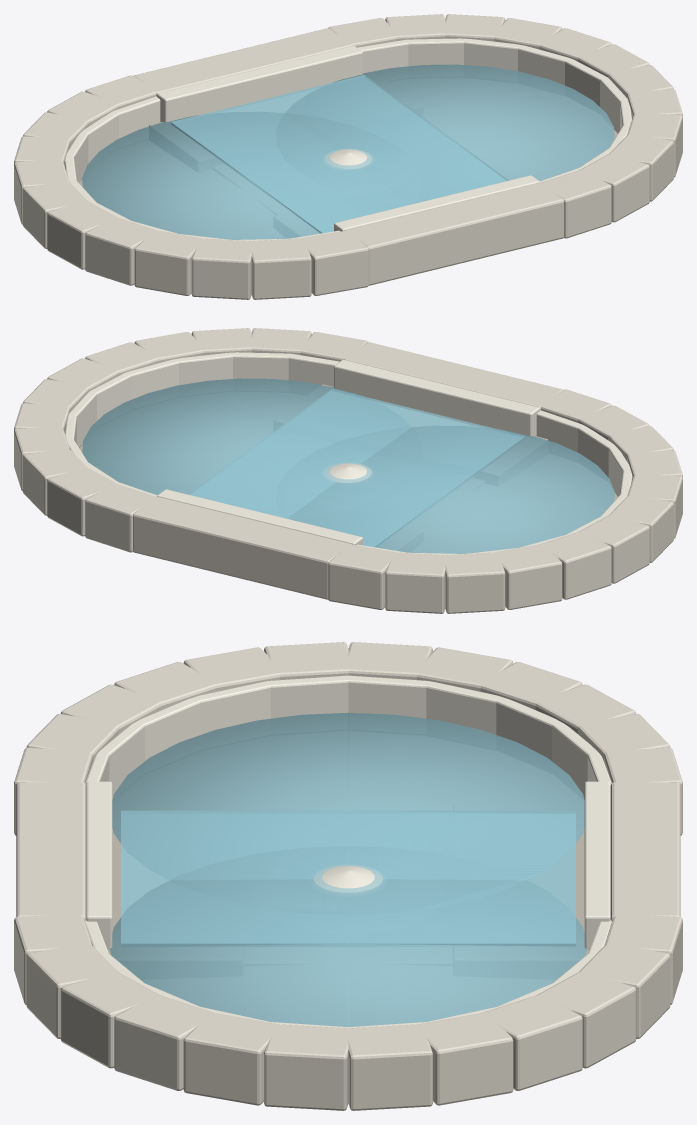
File: pool_roman.glb
3 renders of one model, top to bottom at view 1: azimuth 30°, elevation 25°; view 2: azimuth 150°, elevation 25°; view 3: azimuth 270°, elevation 25°, orthographic. The views are drawn at different scales.
Visible parts, largest first — view 1: Tint, Water, Pool wall, Pool wall.001, Rounded wall.001, Rounded wall.002, Rounded wall.003, Rounded wall, Rounded wall.019, Rounded wall.004, Rounded wall.018, Rounded wall.005 (+2 smaller); view 2: Tint, Water, Pool wall.001, Pool wall, Rounded wall.008, Rounded wall.007, Rounded wall.006, Rounded wall.009, Rounded wall.010, Rounded wall.005, Rounded wall.011, Rounded wall.004 (+2 smaller); view 3: Water, Tint, Pool wall, Pool wall.001, Rounded wall.014, Rounded wall.015, Rounded wall.016, Rounded wall.013, Rounded wall.012, Rounded wall.017, Rounded wall.011, Rounded wall.018 (+3 smaller).
Part boxes in pixels (box(x1,y1,x2,y2)): Tint: box(14, 14, 682, 299); Water: box(82, 64, 614, 239); Pool wall: box(157, 45, 362, 122); Pool wall.001: box(334, 175, 539, 231); Rounded wall.001: box(406, 38, 464, 66); Rounded wall.002: box(464, 38, 520, 71); Rounded wall.003: box(518, 45, 569, 85); Rounded wall: box(357, 39, 408, 72); Rounded wall.019: box(113, 96, 160, 138); Rounded wall.004: box(565, 58, 607, 106); Rounded wall.018: box(81, 111, 118, 163); Rounded wall.005: box(600, 77, 627, 133); Tint: box(14, 328, 682, 613); Water: box(82, 378, 614, 553); Pool wall.001: box(334, 359, 539, 436); Pool wall: box(157, 489, 362, 545); Rounded wall.008: box(232, 352, 290, 380); Rounded wall.007: box(176, 352, 233, 385); Rounded wall.006: box(127, 359, 178, 399); Rounded wall.009: box(288, 353, 339, 386); Rounded wall.010: box(536, 410, 583, 452); Rounded wall.005: box(89, 372, 131, 420); Rounded wall.011: box(578, 425, 615, 477); Rounded wall.004: box(69, 391, 96, 447); Water: box(109, 712, 587, 1026); Tint: box(14, 642, 682, 1110); Pool wall: box(584, 781, 610, 949); Pool wall.001: box(86, 781, 112, 949); Rounded wall.014: box(267, 675, 349, 718); Rounded wall.015: box(347, 675, 429, 718); Rounded wall.016: box(426, 681, 502, 734); Rounded wall.013: box(194, 681, 270, 734); Rounded wall.012: box(136, 697, 200, 761); Rounded wall.017: box(496, 697, 560, 761); Rounded wall.011: box(98, 722, 144, 799); Rounded wall.018: box(552, 722, 598, 799).
Bounding box in the file's own units: 5.63 × 0.35 × 3.83.
